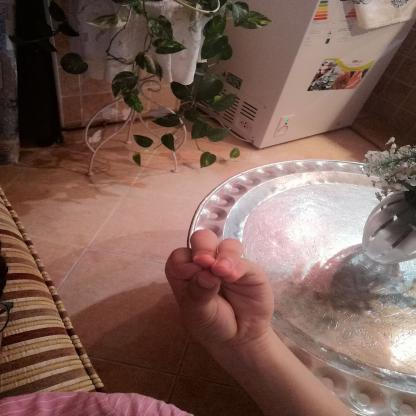HA: (147, 214, 291, 367)
